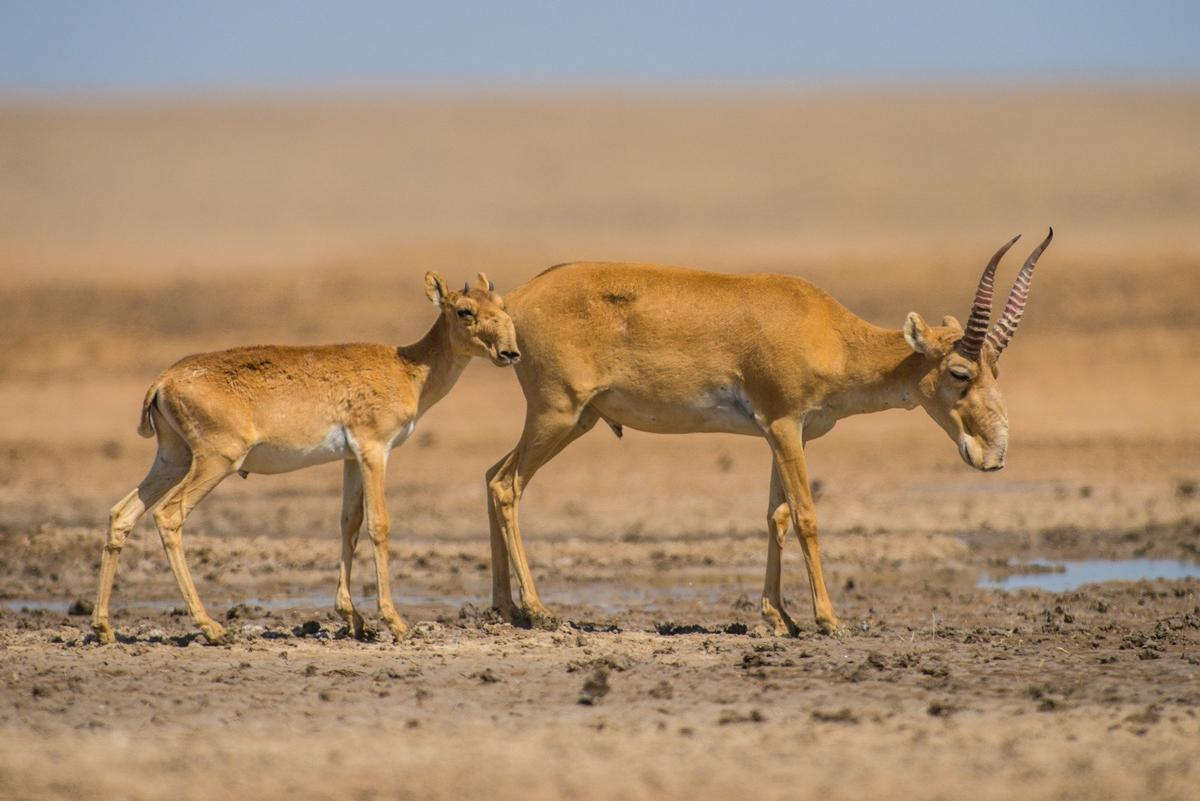saiga: (497, 227, 1052, 638), (92, 268, 521, 651)
